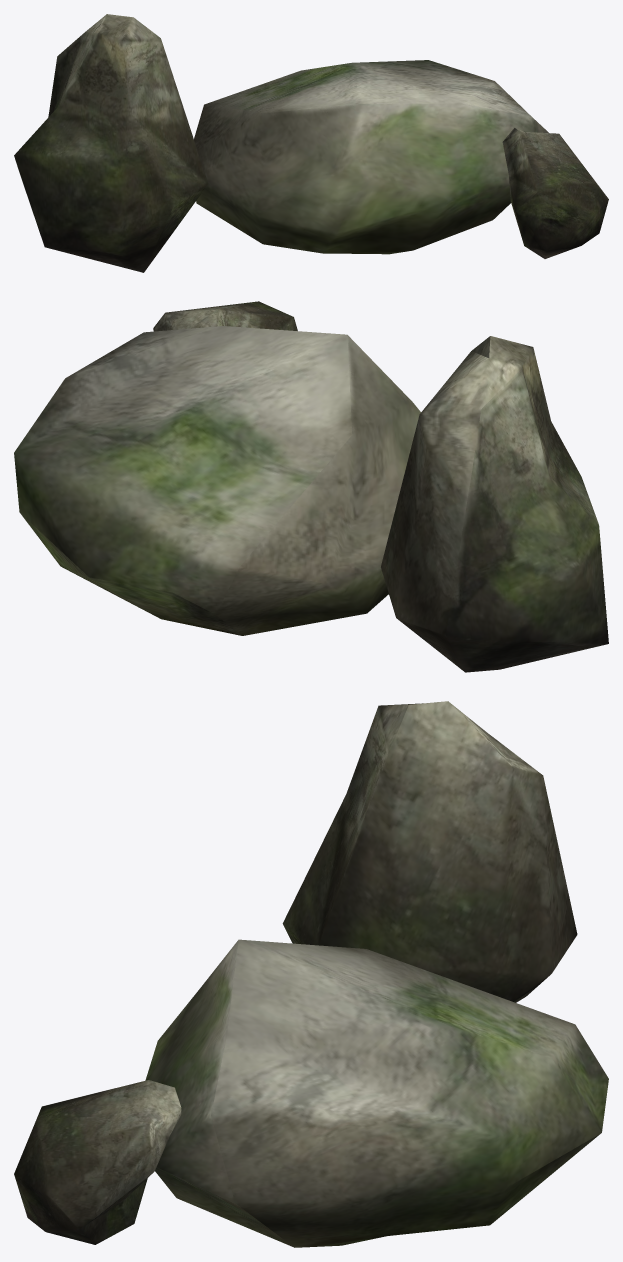
File: rock_group_1_sphere.fbx
3 views of the same model, one above another, from view 1: azimuth 30°, elevation 25°; view 2: azimuth 150°, elevation 25°; view 3: azimuth 270°, elevation 25° (orthographic). The views are drawn at different scales.
Parts seen in each view (by area): view 1: rock_2, rock_1, rock_3; view 2: rock_2, rock_1, rock_3; view 3: rock_2, rock_1, rock_3.
Boxes of the visible parts, box(x1,y1,x2,y2) form: rock_2: box(194, 60, 548, 254); rock_1: box(14, 14, 208, 272); rock_3: box(502, 127, 608, 258); rock_2: box(14, 326, 420, 635); rock_1: box(381, 336, 608, 672); rock_3: box(153, 301, 297, 331); rock_2: box(145, 939, 608, 1247); rock_1: box(282, 701, 577, 1002); rock_3: box(14, 1080, 181, 1244).
Size of the model in its own units: 1112 by 563 by 875.
1 material, 1 textured.
